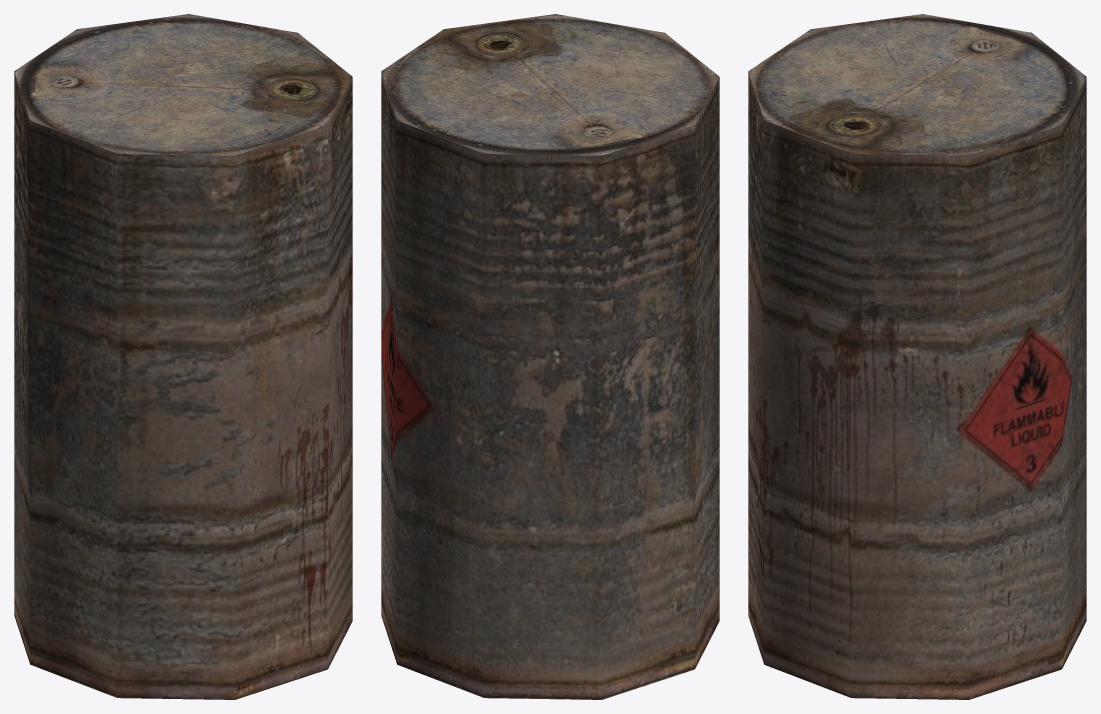
The model's file is Barrel_v1_LD1 (2).glb.
3 views of the same model, side by side, from view 1: azimuth 30°, elevation 25°; view 2: azimuth 150°, elevation 25°; view 3: azimuth 270°, elevation 25° (orthographic).
Visible parts, largest first — view 1: Barrel_v1_LD1 (2); view 2: Barrel_v1_LD1 (2); view 3: Barrel_v1_LD1 (2).
Part boxes in pixels (box(x1,y1,x2,y2)): Barrel_v1_LD1 (2): box(14, 14, 352, 699); Barrel_v1_LD1 (2): box(381, 14, 719, 699); Barrel_v1_LD1 (2): box(748, 14, 1086, 699).
Bounding box in the file's own units: 0.5761 × 1.03 × 0.5811.
Materials: 1 (1 with a texture image).
